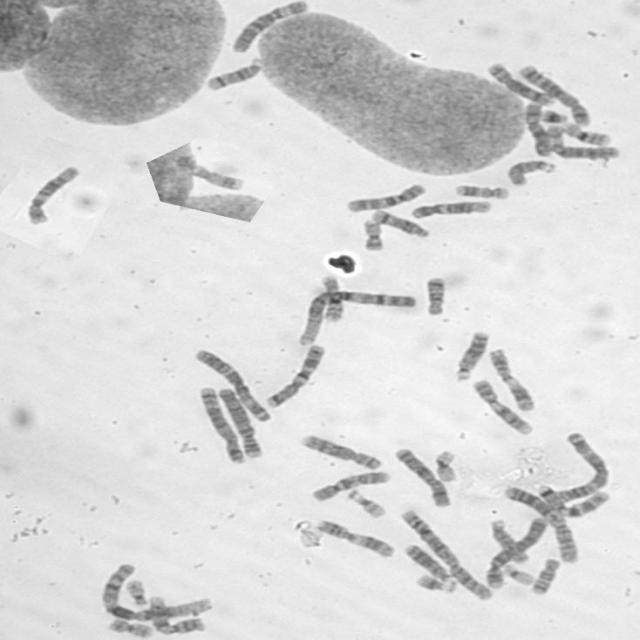A1: (293, 286, 419, 347), (97, 560, 214, 622)
A2: (395, 506, 495, 602), (500, 484, 580, 564)
A3: (188, 344, 274, 423), (548, 428, 613, 505)
B4: (480, 514, 548, 592), (214, 383, 266, 460)
B5: (514, 61, 592, 127), (196, 382, 250, 465)
C10: (306, 467, 392, 503), (343, 180, 429, 213)
C11: (311, 516, 398, 559), (485, 345, 539, 412)
C12: (23, 161, 83, 225), (407, 197, 495, 220)
C6: (227, 0, 310, 53), (542, 121, 622, 160)
C7: (260, 340, 328, 409), (532, 480, 612, 519)
C8: (296, 430, 386, 471), (484, 59, 558, 106)
C9: (468, 375, 536, 436), (143, 592, 208, 635)
D13: (400, 540, 459, 586), (451, 327, 491, 382)
D14: (201, 55, 266, 92), (367, 206, 432, 239)
D15: (485, 515, 532, 565), (503, 156, 558, 188)
E16: (557, 118, 613, 147), (317, 272, 347, 323)
E17: (186, 159, 247, 191), (451, 181, 512, 200)
E18: (527, 554, 562, 596), (421, 272, 449, 316)
F19: (430, 447, 459, 483), (499, 560, 536, 587)
F20: (104, 615, 155, 639), (358, 215, 387, 252)
G21: (412, 570, 461, 594), (536, 105, 570, 124)
G22: (343, 486, 388, 520), (121, 576, 149, 608)
X: (392, 445, 454, 508), (520, 99, 552, 158)
